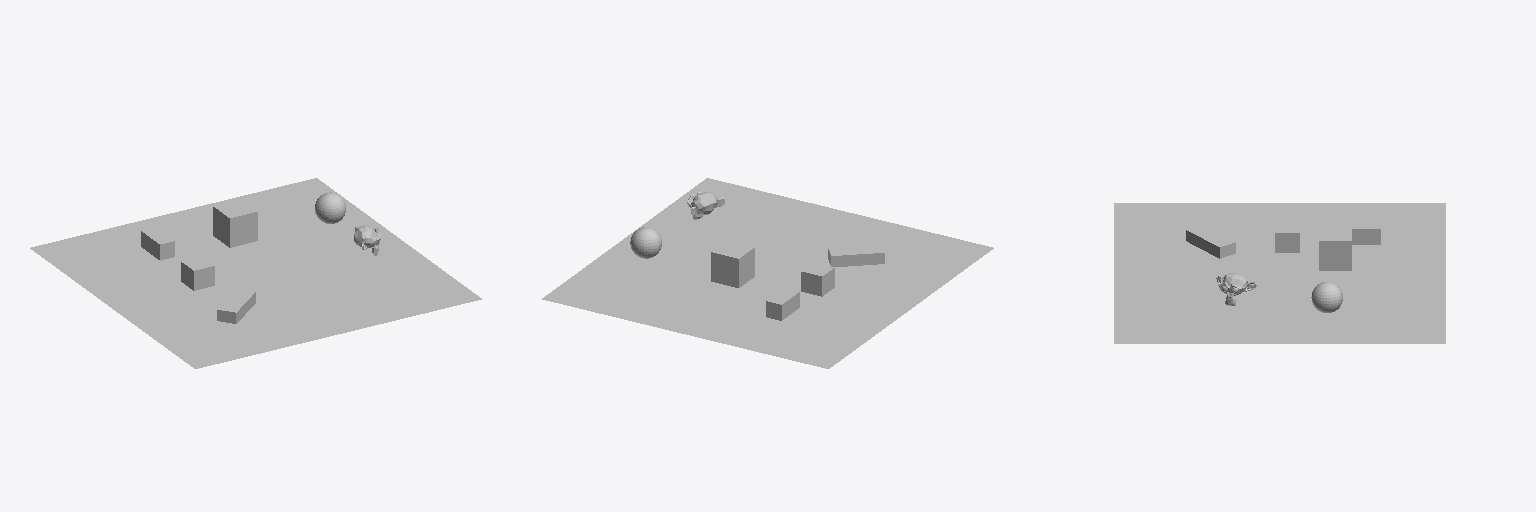
The model's file is Level.obj.
3 views of the same model, side by side, from view 1: azimuth 30°, elevation 25°; view 2: azimuth 150°, elevation 25°; view 3: azimuth 270°, elevation 25° (orthographic).
Visible parts, largest first — view 1: Plane, Cube.002_Cube.003, Cube_Cube.001, Cube.001_Cube.002, Cube.003_Cube.004, Sphere, Suzanne; view 2: Plane, Cube.002_Cube.003, Cube.001_Cube.002, Cube_Cube.001, Cube.003_Cube.004, Sphere, Suzanne; view 3: Plane, Cube.002_Cube.003, Cube.001_Cube.002, Sphere, Cube_Cube.001, Cube.003_Cube.004, Suzanne.
Boxes of the visible parts, <box> form: Plane: <box>30,178,481,368</box>; Cube.002_Cube.003: <box>213,200,257,247</box>; Cube_Cube.001: <box>181,257,214,290</box>; Cube.001_Cube.002: <box>217,289,255,323</box>; Cube.003_Cube.004: <box>141,228,174,260</box>; Sphere: <box>315,192,345,223</box>; Suzanne: <box>354,225,380,255</box>; Plane: <box>542,178,993,368</box>; Cube.002_Cube.003: <box>711,240,754,287</box>; Cube.001_Cube.002: <box>828,244,884,266</box>; Cube_Cube.001: <box>801,262,834,296</box>; Cube.003_Cube.004: <box>766,288,799,320</box>; Sphere: <box>630,227,661,258</box>; Suzanne: <box>687,192,724,219</box>; Plane: <box>1114,203,1445,343</box>; Cube.002_Cube.003: <box>1319,228,1351,270</box>; Cube.001_Cube.002: <box>1186,224,1235,258</box>; Sphere: <box>1311,282,1342,312</box>; Cube_Cube.001: <box>1275,222,1299,252</box>; Cube.003_Cube.004: <box>1344,221,1380,244</box>; Suzanne: <box>1216,273,1256,305</box>.
Bounding box in the file's own units: 26.82 × 4.45 × 26.82.